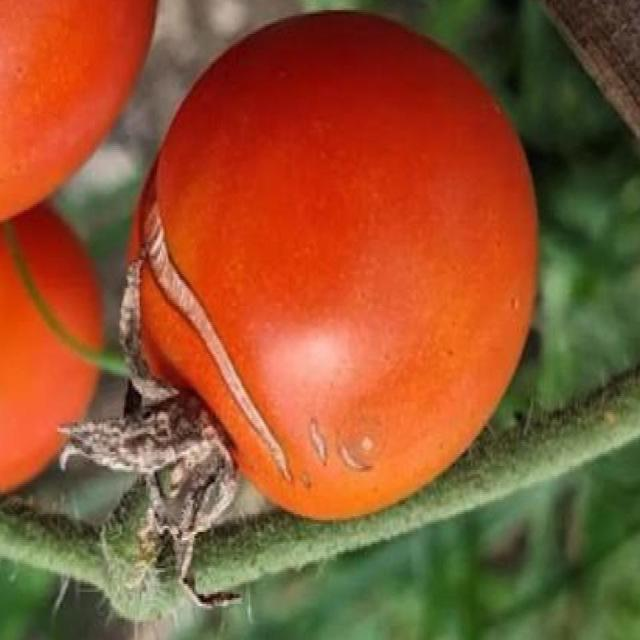Cracking Fruit: (51, 67, 223, 303)
